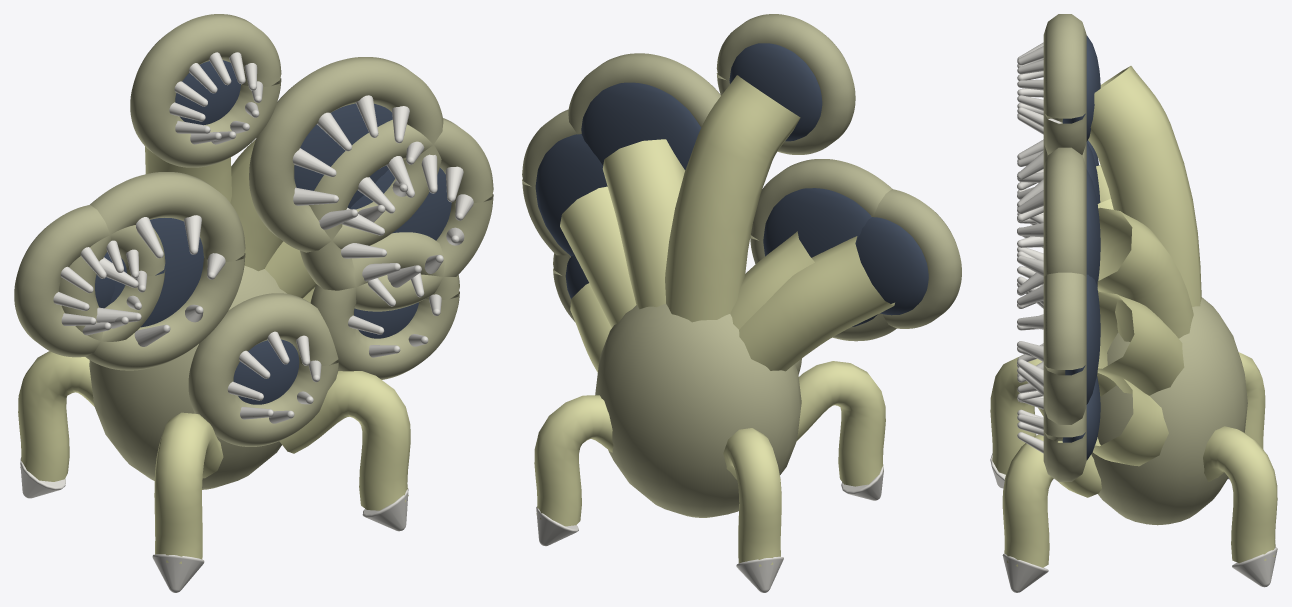
The model's file is bio_manymouth_05_near.glb.
3 renders of one model, left to right at view 1: azimuth 30°, elevation 25°; view 2: azimuth 150°, elevation 25°; view 3: azimuth 270°, elevation 25°, orthographic. The views are drawn at different scales.
Parts seen in each view (by area): view 1: Raised oral lip.003, Raised oral lip.001, Raised oral lip.002, Raised oral lip.006, Raised oral lip.005, Central branching knot, Raised oral lip.004, Raised oral lip, Crooked support.003, Crooked support.002, Crooked support.001, Inward tooth.040 (+18 smaller); view 2: Central branching knot, Bent oral neck.006, Bent oral neck.004, Bent oral neck.003, Raised oral lip.006, Crooked support.002, Recessed mouth cavity.003, Crooked support, Bent oral neck.005, Crooked support.001, Raised oral lip.004, Raised oral lip.001 (+13 smaller); view 3: Central branching knot, Bent oral neck.006, Bent oral neck.003, Crooked support, Raised oral lip.005, Crooked support.003, Raised oral lip.006, Bent oral neck.005, Raised oral lip.003, Bent oral neck, Crooked support.002, Raised oral lip (+15 smaller).
Boxes of the visible parts, left/top/right/bottom form: Raised oral lip.003: left=249, top=57, right=443, bottom=252; Raised oral lip.001: left=59, top=172, right=245, bottom=370; Raised oral lip.002: left=188, top=293, right=338, bottom=446; Raised oral lip.006: left=130, top=14, right=281, bottom=167; Raised oral lip.005: left=300, top=118, right=493, bottom=311; Central branching knot: left=89, top=265, right=286, bottom=489; Raised oral lip.004: left=14, top=205, right=165, bottom=357; Raised oral lip: left=310, top=232, right=459, bottom=379; Crooked support.003: left=279, top=371, right=410, bottom=510; Crooked support.002: left=154, top=412, right=223, bottom=563; Crooked support.001: left=18, top=351, right=94, bottom=481; Inward tooth.040: left=341, top=154, right=473, bottom=287; Central branching knot: left=595, top=303, right=801, bottom=517; Bent oral neck.006: left=665, top=75, right=800, bottom=322; Bent oral neck.004: left=739, top=236, right=894, bottom=371; Bent oral neck.003: left=602, top=139, right=685, bottom=309; Raised oral lip.006: left=716, top=14, right=855, bottom=154; Crooked support.002: left=797, top=361, right=885, bottom=486; Recessed mouth cavity.003: left=581, top=82, right=701, bottom=170; Crooked support: left=534, top=395, right=613, bottom=526; Bent oral neck.005: left=560, top=186, right=636, bottom=327; Crooked support.001: left=723, top=428, right=781, bottom=566; Raised oral lip.004: left=871, top=189, right=961, bottom=328; Raised oral lip.001: left=750, top=159, right=896, bottom=341; Central branching knot: left=1091, top=297, right=1247, bottom=525; Bent oral neck.006: left=1088, top=66, right=1201, bottom=306; Bent oral neck.003: left=1097, top=207, right=1193, bottom=341; Crooked support: left=1203, top=426, right=1277, bottom=563; Raised oral lip.005: left=1043, top=272, right=1086, bottom=424; Crooked support.003: left=1002, top=434, right=1101, bottom=567; Raised oral lip.006: left=1043, top=14, right=1086, bottom=154; Bent oral neck.005: left=1097, top=291, right=1184, bottom=395; Raised oral lip.003: left=1043, top=147, right=1086, bottom=276; Bent oral neck: left=1093, top=373, right=1168, bottom=466; Crooked support.002: left=990, top=354, right=1043, bottom=474; Raised oral lip: left=1043, top=407, right=1086, bottom=481.
Size of the model in its own units: 2.13 by 2.3 by 1.21.
